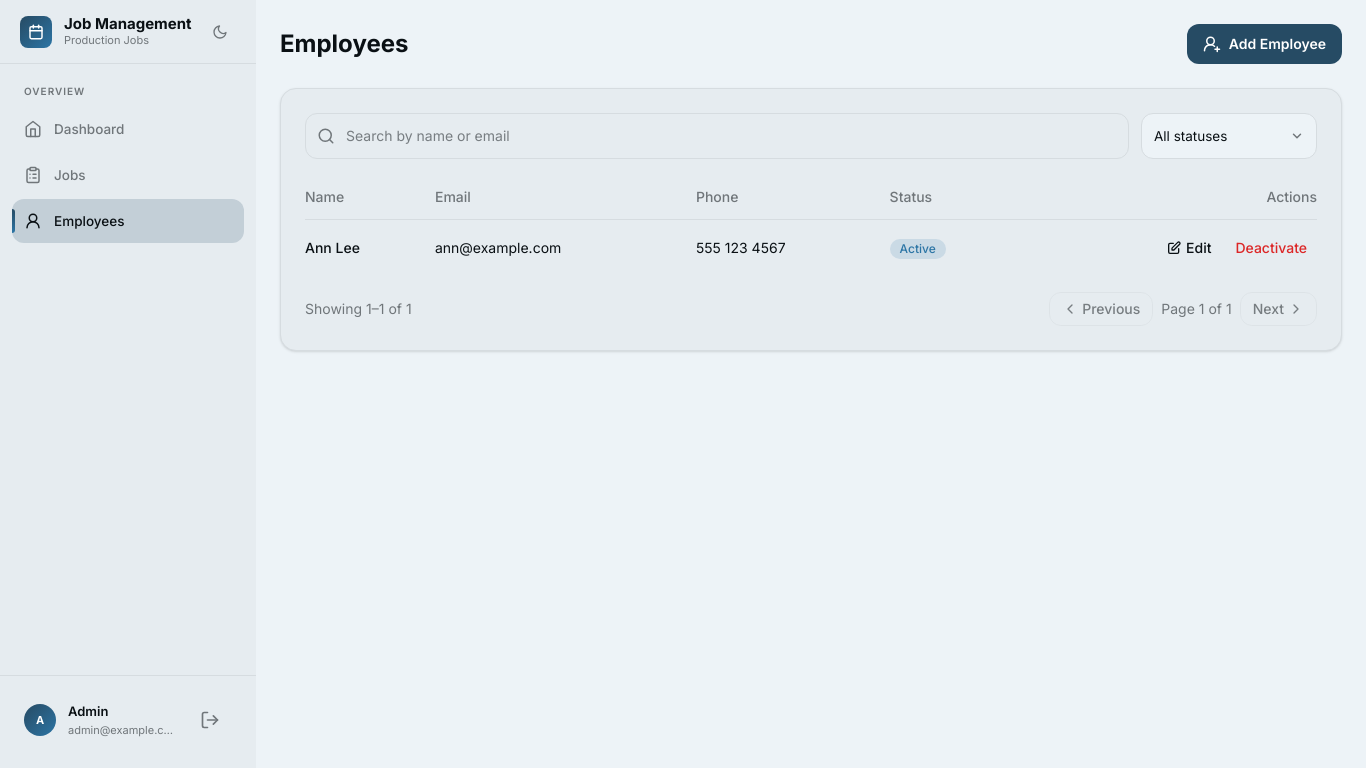
Test: add and edit employee › shows field errors for an empty form and sends nothing
This screenshot has width=1366, height=768.
Click the button "Add Employee" at (1264,44), box [1187,24,1342,64]
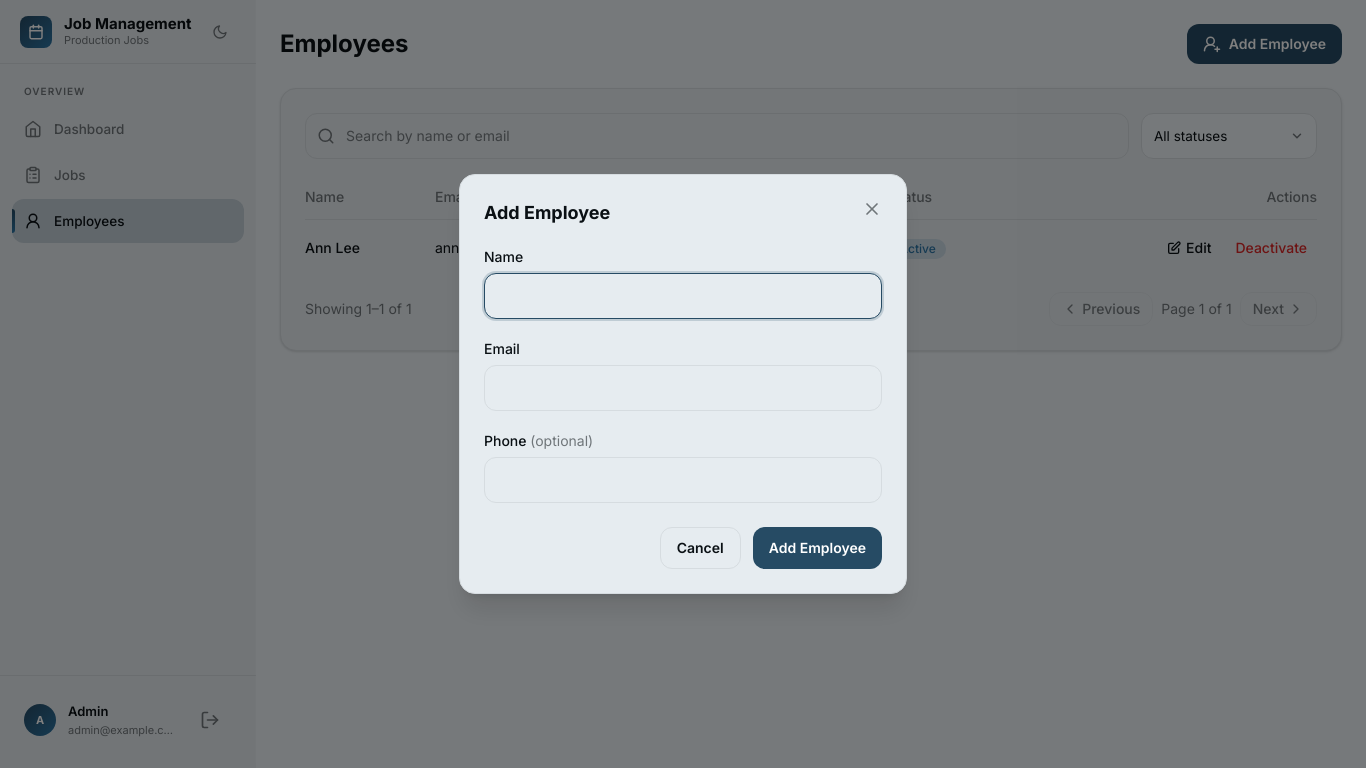
Click the button "Add Employee" at (817,548), box [753,527,882,569]
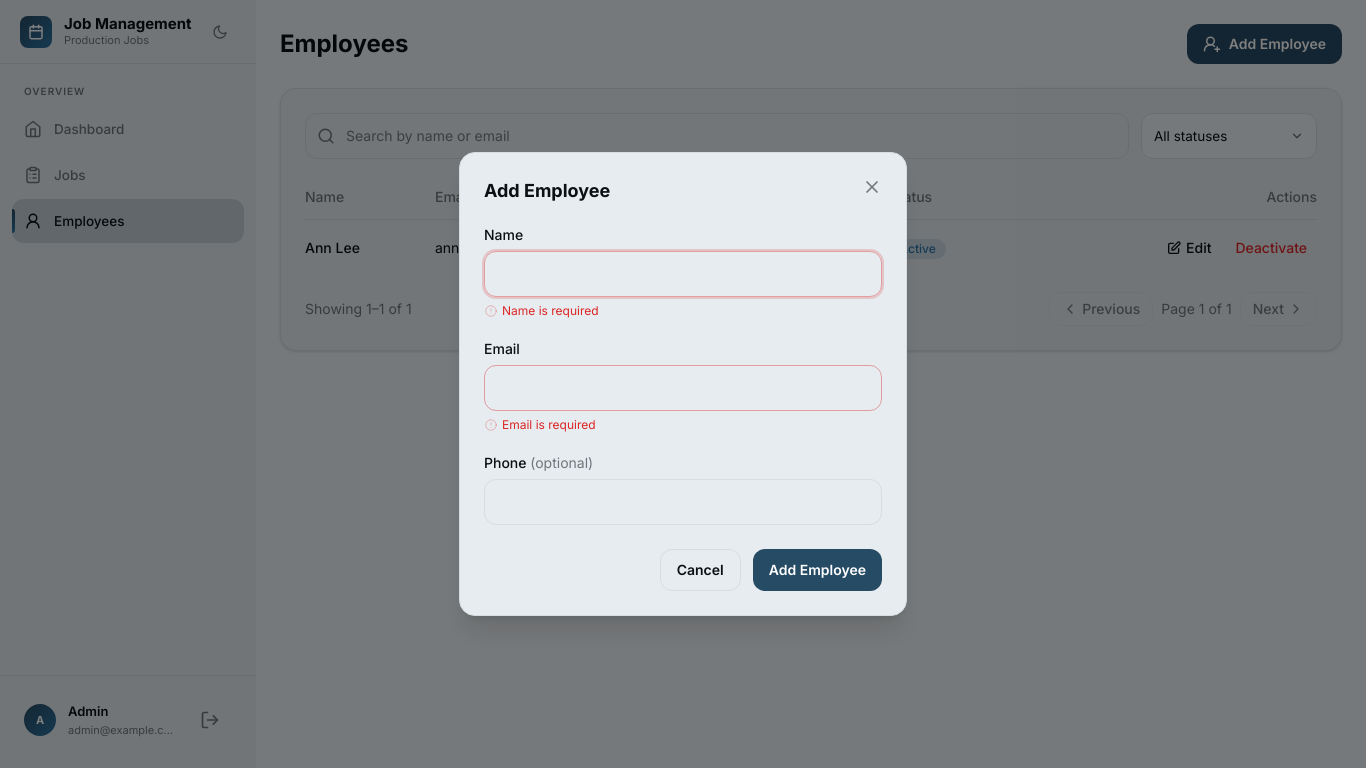
expect the text "Name is required" is shown: met, box [484,303,599,318]
expect the text "Email is required" is shown: met, box [484,417,596,432]
